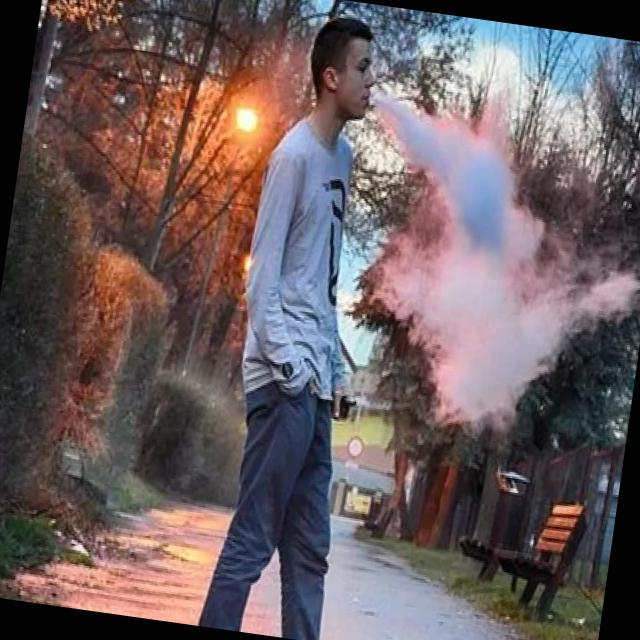cigarette: (322, 384, 366, 426)
